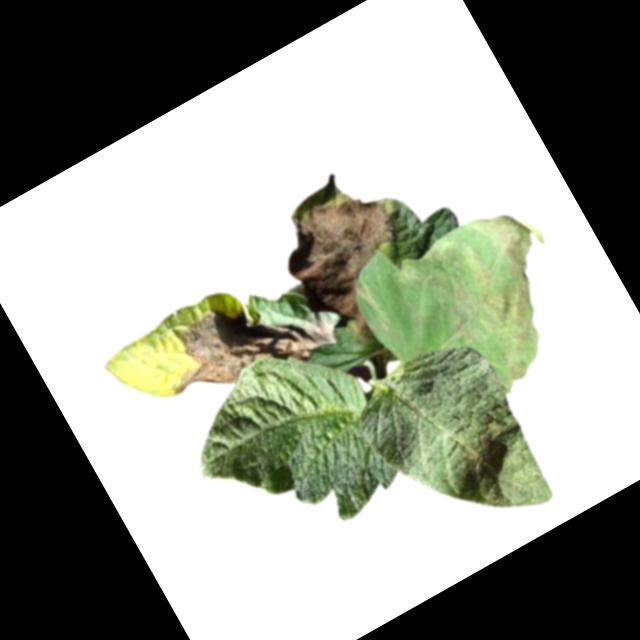Late_blight: (405, 190, 605, 404), (263, 169, 444, 361), (147, 261, 342, 426)
healthy: (162, 324, 410, 574), (346, 327, 562, 562)
